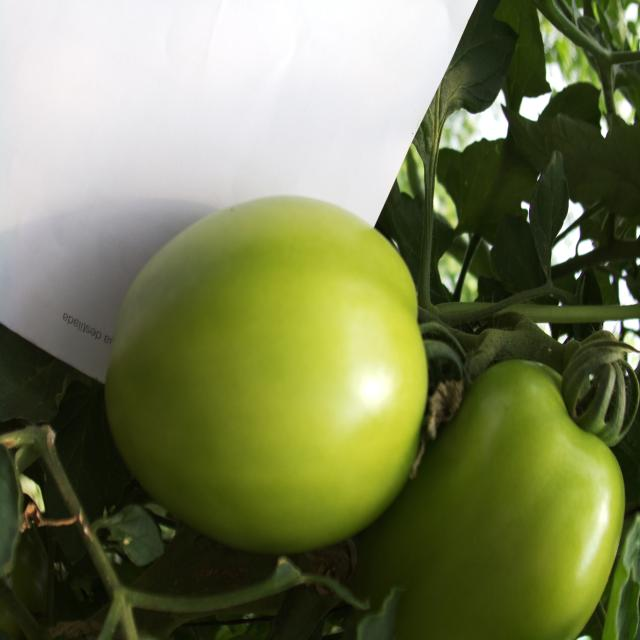yesil: (87, 174, 625, 634)
